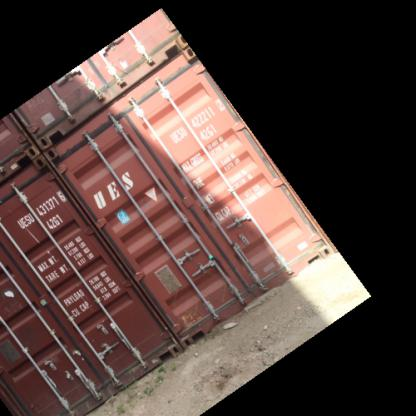Damage: (144, 256, 239, 338)
